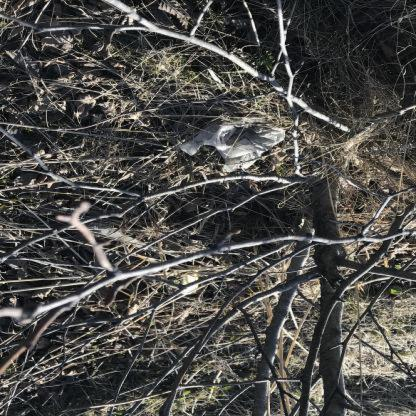Plastic bag - wrapper: (179, 116, 286, 172)
Unlabeled litter: (180, 264, 202, 292)
